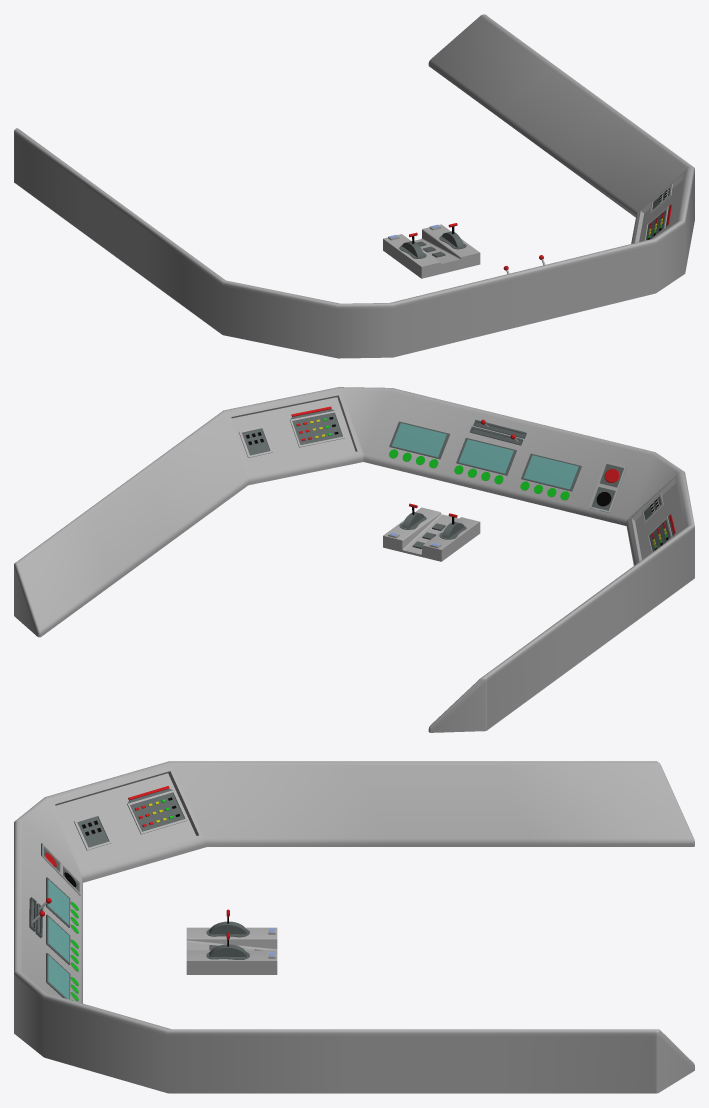
File: StarShip.fbx
3 views of the same model, one above another, from view 1: azimuth 30°, elevation 25°; view 2: azimuth 150°, elevation 25°; view 3: azimuth 270°, elevation 25° (orthographic). The views are drawn at different scales.
Visible parts, largest first — view 1: Cube, machine.001; view 2: Cube, Cube.001, machine.001; view 3: Cube, machine.001, Cube.001.
Part boxes in pixels (x1,y1,x2,y2): Cube: (14, 14, 694, 358); machine.001: (644, 184, 672, 240); Cube: (14, 387, 694, 732); Cube.001: (389, 419, 581, 500); machine.001: (239, 406, 675, 552); Cube: (14, 761, 694, 1093); machine.001: (41, 786, 187, 895); Cube.001: (29, 877, 78, 1001).
Size of the model in its own units: 1857 by 207 by 1974.
